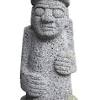Stone Statue: (16, 0, 79, 100)
